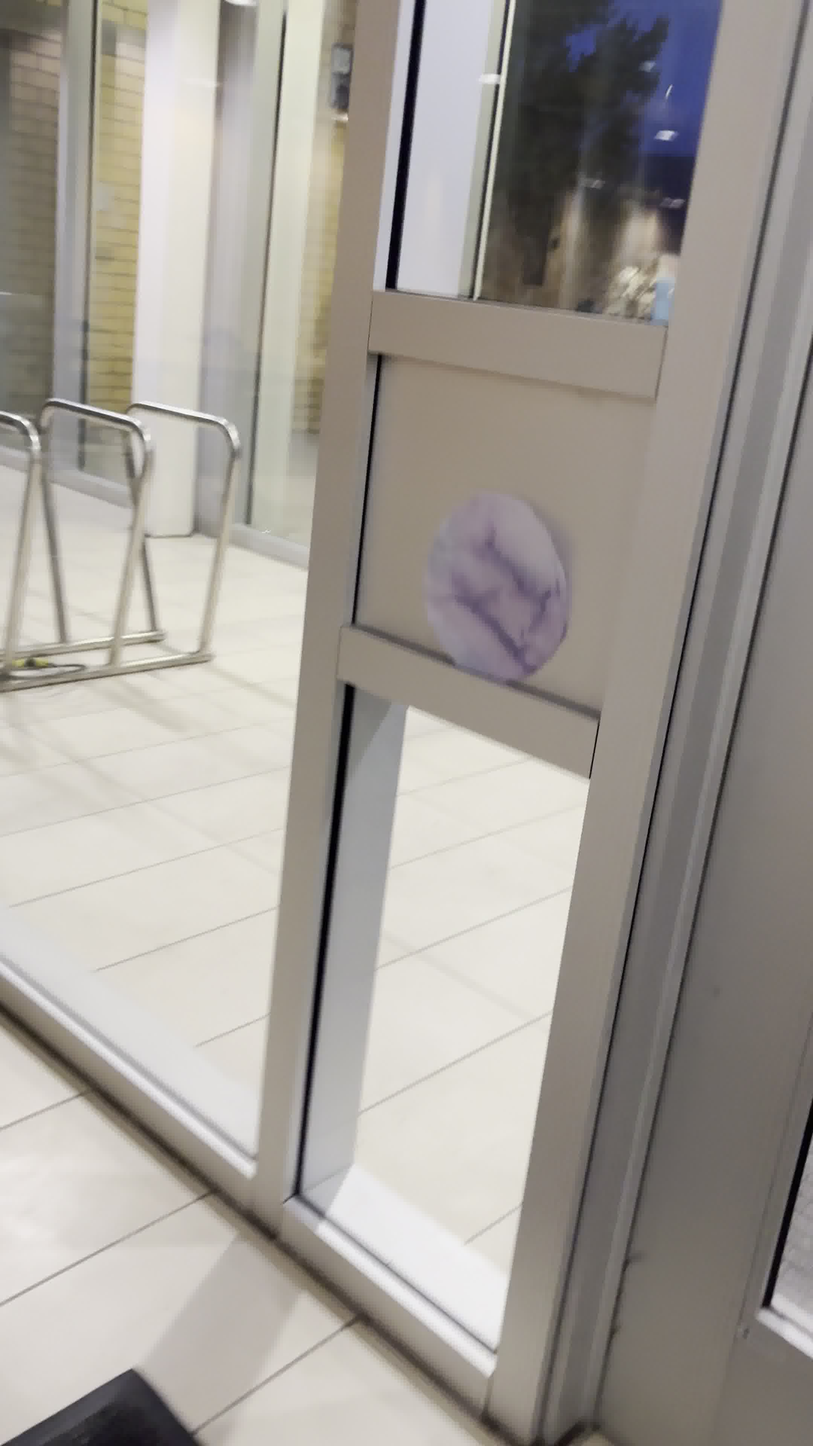Target: (415, 474, 582, 698)
